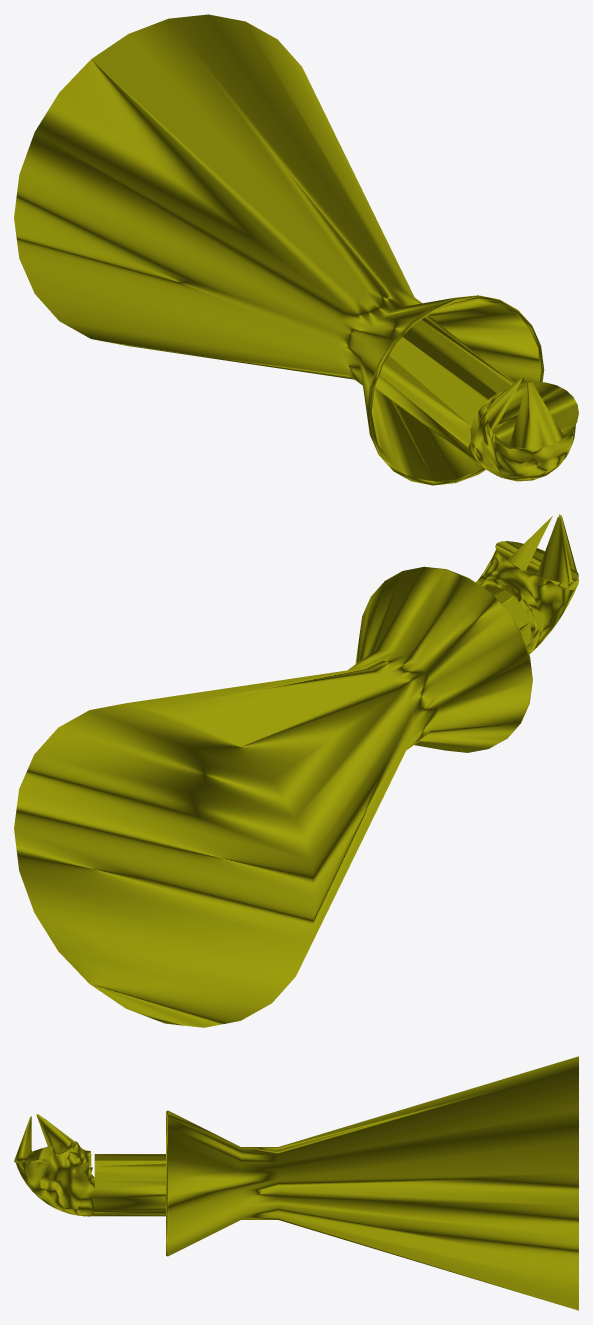
File: model_align.obj
The picture shows the model from 3 angles, top to bottom: view 1: azimuth 30°, elevation 25°; view 2: azimuth 150°, elevation 25°; view 3: azimuth 270°, elevation 25°; orthographic projection. The views are drawn at different scales.
Size of the model in its own units: 0.0967 by 0.0967 by 0.214.
